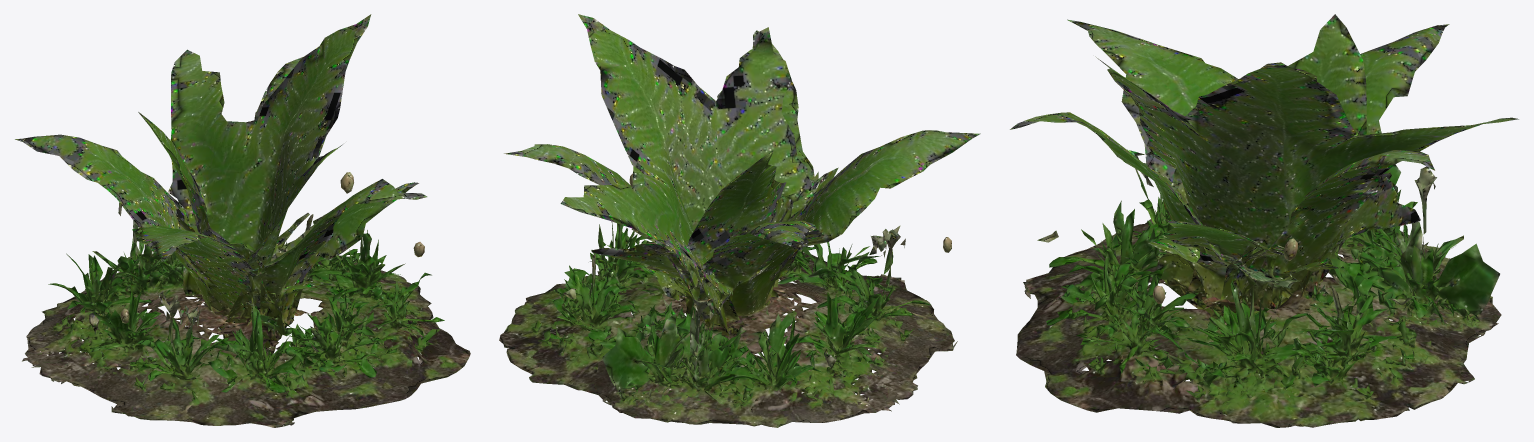
The model's file is fern.0.glb.
3 renders of one model, left to right at view 1: azimuth 30°, elevation 25°; view 2: azimuth 150°, elevation 25°; view 3: azimuth 270°, elevation 25°, orthographic. The views are drawn at different scales.
Parts seen in each view (by area): view 1: geometry_0; view 2: geometry_0; view 3: geometry_0.
Part boxes in pixels (x1,y1,x2,y2): geometry_0: (15,14,470,427); geometry_0: (499,14,980,427); geometry_0: (1010,14,1518,427).
Bounding box in the file's own units: 0.8794 × 0.6599 × 0.8734.
Materials: 1 (1 with a texture image).
